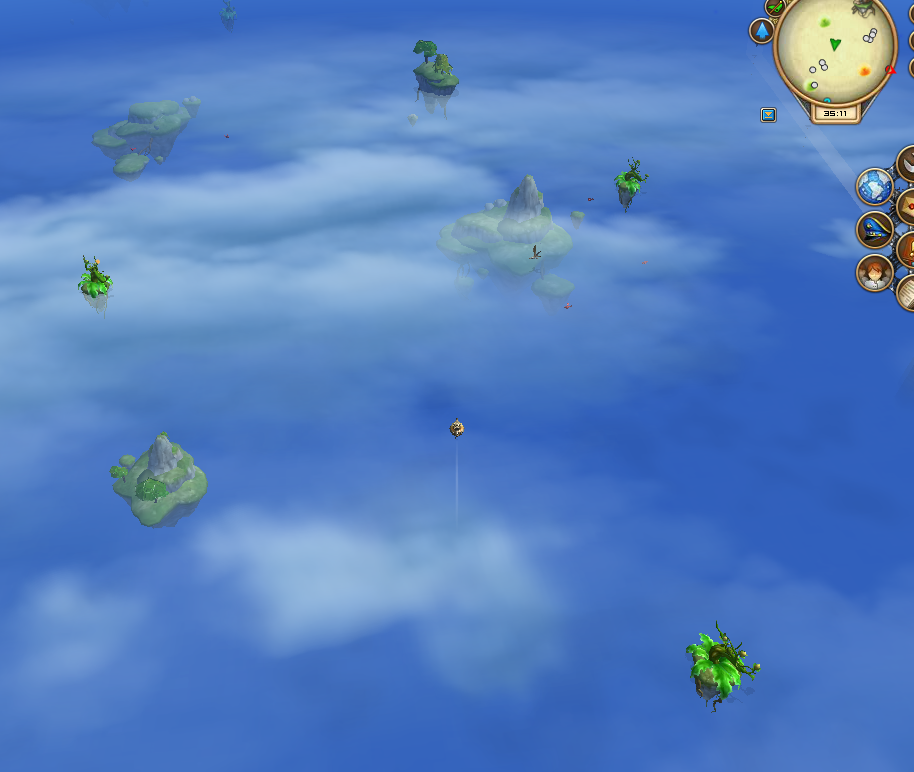dandelion-empty: (679, 617, 763, 709), (73, 252, 114, 309), (611, 153, 651, 204)
